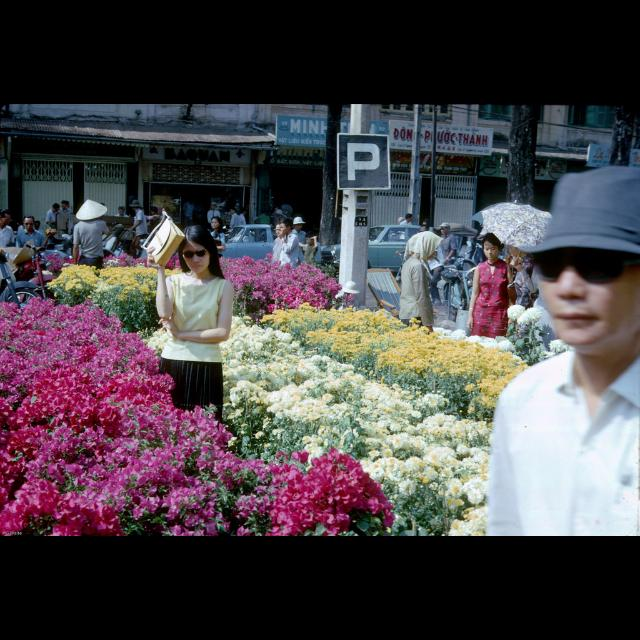Flower: (0, 262, 574, 536)
